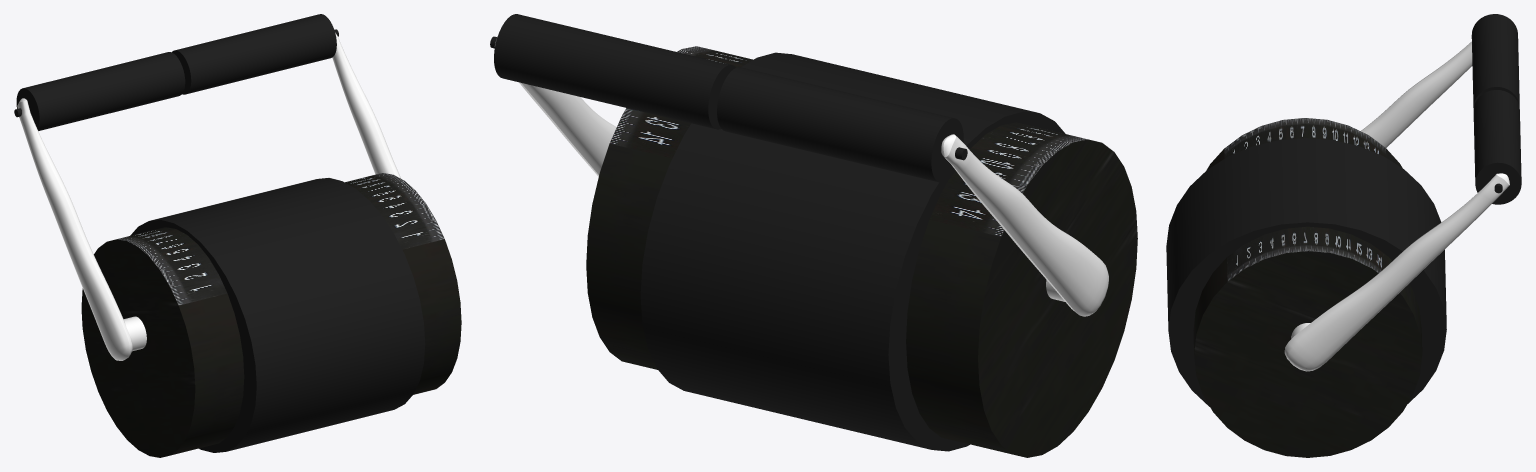
Rendered from throttle.glb.
3 views of the same model, side by side, from view 1: azimuth 30°, elevation 25°; view 2: azimuth 150°, elevation 25°; view 3: azimuth 270°, elevation 25° (orthographic). The views are drawn at different scales.
Visible parts, largest first — view 1: Cylinder.050, Cylinder.049; view 2: Cylinder.050, Cylinder.049; view 3: Cylinder.050, Cylinder.049.
Part boxes in pixels (box(x1,y1,x2,y2)): Cylinder.050: box(81, 173, 461, 457); Cylinder.049: box(14, 14, 401, 360); Cylinder.050: box(586, 46, 1137, 457); Cylinder.049: box(490, 14, 1108, 316); Cylinder.050: box(1166, 118, 1446, 457); Cylinder.049: box(1284, 14, 1521, 371).
Size of the model in its own units: 0.4885 by 0.4296 by 0.4514.
3 materials, 1 textured.
